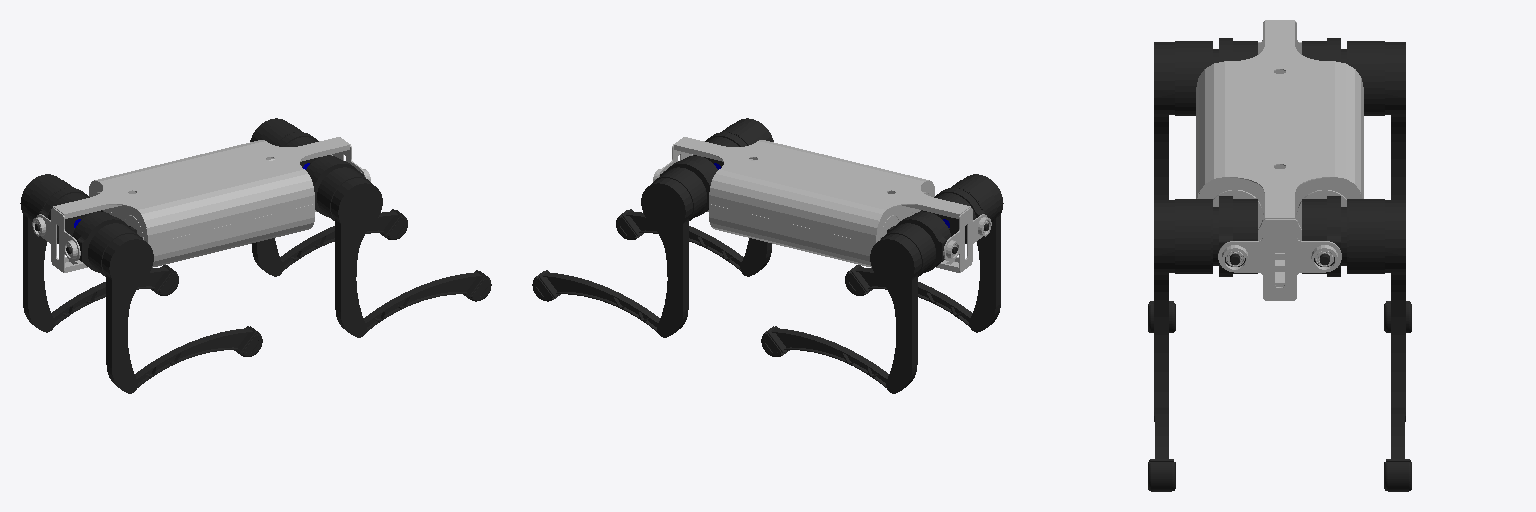
--- Facts derived from the render (not from the file) ---
Views: 3 orthographic renders of the robot side by side, from view 1: azimuth 30°, elevation 25°; view 2: azimuth 150°, elevation 25°; view 3: azimuth 270°, elevation 25°.
Model aliengo with 31 links and 30 joints (12 revolute, 18 fixed), rooted at base, posed all joints at 0 but 4 set to mid-range because 0 is outside their limits (FR_calf_joint = -1.69, FL_calf_joint = -1.69, RR_calf_joint = -1.69, RL_calf_joint = -1.69).
Visible links, largest first — view 1: body, FR_thigh, RR_thigh, RL_thigh, RR_calf, FR_calf, FL_thigh, FL_calf, RL_calf, RR_hip, RL_hip, FR_hip; view 2: body, RL_thigh, FL_thigh, RR_thigh, RL_calf, FL_calf, FR_thigh, FR_calf, RR_calf, RL_hip, RR_hip, FL_hip; view 3: body, FR_thigh, FL_thigh, RR_thigh, RL_thigh, FL_hip, FR_hip, FR_calf, FL_calf, FR_foot, FL_foot, RR_hip (+1 smaller).
Link boxes in pixels (box(x1,y1,x2,y2)): body: box(32, 137, 370, 272); FR_thigh: box(317, 167, 382, 337); RR_thigh: box(88, 223, 153, 393); RL_thigh: box(20, 174, 73, 332); RR_calf: box(126, 326, 258, 392); FR_calf: box(355, 270, 487, 335); FL_thigh: box(250, 118, 301, 276); FL_calf: box(271, 209, 403, 274); RL_calf: box(43, 265, 174, 330); RR_hip: box(66, 211, 136, 272); RL_hip: box(35, 188, 103, 243); FR_hip: box(306, 156, 363, 216); body: box(653, 137, 991, 272); RL_thigh: box(870, 223, 935, 393); FL_thigh: box(641, 167, 706, 337); RR_thigh: box(951, 174, 1003, 332); RL_calf: box(765, 326, 897, 392); FL_calf: box(536, 270, 668, 335); FR_thigh: box(722, 118, 773, 276); FR_calf: box(620, 209, 752, 275); RR_calf: box(849, 265, 981, 330); RL_hip: box(887, 211, 957, 272); RR_hip: box(920, 188, 988, 243); FL_hip: box(660, 156, 717, 216); body: box(1196, 20, 1363, 300); FR_thigh: box(1154, 199, 1218, 421); FL_thigh: box(1341, 199, 1405, 421); RR_thigh: box(1154, 41, 1218, 199); RL_thigh: box(1341, 41, 1405, 199); FL_hip: box(1302, 196, 1340, 276); FR_hip: box(1219, 196, 1257, 276); FR_calf: box(1148, 407, 1175, 463); FL_calf: box(1384, 407, 1411, 463); FR_foot: box(1148, 463, 1175, 491); FL_foot: box(1384, 463, 1411, 491); RR_hip: box(1219, 38, 1257, 61).
Size in the robot's own frame: 0.9348 by 0.3833 by 0.3574 metres.
17 mesh visuals loaded from 17 distinct referenced files (17 binary STL).

URDF robot description (aliengo):
<?xml version="1.0" ?>
<!-- =================================================================================== -->
<!-- |    This document was autogenerated by xacro from ourmeshURDF.xacro              | -->
<!-- |    EDITING THIS FILE BY HAND IS NOT RECOMMENDED                                 | -->
<!-- =================================================================================== -->
<robot name="aliengo" xmlns:xacro="http://www.ros.org/wiki/xacro">
  <!-- Define parameters -->
  <!-- bodyLength + hipdx should be equal to front to back hip distance -->
  <!-- dy +  dPodAxisToEdge + upperLegWidth should be equal to the center to toe distance along y axis-->
  <!-- by zhu -->
  <!-- by zhu -->
  <!-- by zhu -->
  <!-- by zhu -->
  <!-- by zhu -->
  <!-- by zhu -->
  <!-- by zhu -->
  <!-- by zhu -->
  <!-- by zhu -->
  <!--visual only-->
  <!--Hip joint坐标系位置 基于机身原点 -->
  <!--Hip joint坐标系位置 基于机身原点 -->
  <!-- 根关节电机坐标系位置 基于机身原点 -->
  <!-- 根关节电机坐标系位置 基于机身原点 -->
  <!--大腿电机 Y方向偏移距离 基于Hip_joint坐标系  应该为负 蓝色-->
  <!--小腿电机 Y方向偏移距离 thigh_joint坐标系 应该为负 绿色-->
  <!--肩部圆柱体Y方向偏移距离 基于Hip joint坐标系  橙色center of pod cylinder to the ab axis-->
  <!--thigh_joint大腿腿杆Y方向偏移距离 基于Hip joint坐标系  -->
  <!--calf_joint小腿腿杆偏移距离 基于thigh_joint坐标系  一般为Z方向 等于大腿腿长upperLegLength -->
  <!--  足端偏移距离 基于FL_calf_joint坐标系  一般为负 Z方向 与小腿杆等长 -->
  <!-- Define materials -->
  <material name="darkgray">
    <color rgba="0.1 0.1 0.1 1.0"/>
  </material>
  <material name="silver">
    <color rgba="0.3 0.3 0.3 1.0"/>
  </material>
  <material name="red">
    <color rgba="0.8 0.0 0.2 1.0"/>
  </material>
  <material name="blue">
    <color rgba="0.0 0.0 0.8 1.0"/>
  </material>
  <material name="green">
    <color rgba="0.0 0.8 0.0 1.0"/>
  </material>
  <material name="grey">
    <color rgba="0.2 0.2 0.2 1.0"/>
  </material>
  <material name="orange">
    <color rgba="1.0 0.4235294117647059 0.0392156862745098 1.0"/>
  </material>
  <material name="white">
    <color rgba="0.752941176470588 0.752941176470588 0.752941176470588 1"/>
  </material>
  <link name="base">
    <visual>
      <origin rpy="0 0 0" xyz="0 0 0"/>
      <geometry>
        <box size="0.001 0.001 0.001"/>
      </geometry>
    </visual>
  </link>
  <joint name="floating_base" type="fixed">
    <origin rpy="0 0 0" xyz="0 0 0"/>
    <parent link="base"/>
    <child link="body"/>
  </joint>
  <!-- Body -->
  <link name="body">
    <visual>
      <origin rpy="0 0 0" xyz="0 0 0"/>
      <geometry>
        <mesh filename="../meshes/trunk.STL"/>
      </geometry>
      <material name="white"/>
    </visual>
    <inertial>
      <mass value="7.644"/>
      <!-- Uniform box -->
      <origin rpy="0 0 0" xyz="0.0 0.0 0.0"/>
      <!--<mass value="11.644"/> -->
      <inertia ixx="0.05256248" ixy="0.0" ixz="-0.00026788" iyy="0.25653482" iyz="-0.00000258" izz="0.28262267"/>
    </inertial>
    <!-- Just copy geometry for collision -->
    <collision>
      <origin rpy="0 0 0" xyz="0 0 0"/>
      <geometry>
        <box size="0.647 0.244 0.1335"/>
      </geometry>
    </collision>
  </link>
  <joint name="imu_joint" type="fixed">
    <parent link="body"/>
    <child link="imu_link"/>
    <origin rpy="0 0 0" xyz="0 0 0"/>
  </joint>
  <link name="imu_link">
    <inertial>
      <mass value="0.001"/>
      <origin rpy="0 0 0" xyz="0 0 0"/>
      <inertia ixx="0.0001" ixy="0" ixz="0" iyy="0.000001" iyz="0" izz="0.0001"/>
    </inertial>
    <visual>
      <origin rpy="0 0 0" xyz="0 0 0"/>
      <geometry>
        <box size="0.001 0.001 0.001"/>
      </geometry>
      <material name="red"/>
    </visual>
    <collision>
      <origin rpy="0 0 0" xyz="0 0 0"/>
      <geometry>
        <box size=".001 .001 .001"/>
      </geometry>
    </collision>
  </link>
  <!-- Define our leg macro -->
  <!-- Our four legs -->
  <!-- Hip motor -->
  <link name="FR_hip">
    <visual>
      <!-- <origin rpy="${pi * hiprpyX} ${pi * hiprpyY} 0" xyz="0 0 0"/>  -->
      <origin rpy="0 0 0" xyz="0 0 0"/>
      <geometry>
        <mesh filename="../meshes/FR_hip.STL"/>
      </geometry>
      <material name="grey"/>
    </visual>
    <collision>
      <origin rpy="1.570796326795 0 0" xyz="0 -0.10665 0"/>
      <geometry>
        <cylinder length="0.03" radius="0.055"/>
      </geometry>
    </collision>
    <inertial>
      <mass value="0.33072"/>
      <origin rpy="0 0 0" xyz="-0.0 -0.10665 0"/>
      <inertia ixx="0.00027491" ixy="-0.0" ixz="0.0" iyy="0.00050021" iyz="-0.0" izz="0.00027491"/>
    </inertial>
  </link>
  <!-- Abduction joint. Joint names are: 8 9 10 11 -->
  <joint name="FR_hip_joint" type="revolute">
    <parent link="body"/>
    <child link="FR_hip"/>
    <axis xyz="1 0 0"/>
    <origin rpy="0 0 0" xyz="0.2717 -0.065 0"/>
    <limit effort="54" lower="-0.873" upper="1.047" velocity="20"/>
    <dynamics damping="0.0" friction="0.0"/>
  </joint>
  <link name="FR_hip_motor">
    <visual>
      <origin rpy="0 1.570796326795 0" xyz="0 0 0"/>
      <geometry>
        <cylinder length="0.0285" radius="0.025"/>
      </geometry>
      <material name="red"/>
    </visual>
    <collision>
      <origin rpy="0 1.570796326795 0" xyz="0 0 0"/>
      <geometry>
        <cylinder length="0.057" radius="0.05"/>
      </geometry>
    </collision>
    <inertial>
      <mass value="1"/>
      <origin rpy="0 0 0" xyz="0.0 0.0 0.0"/>
      <inertia ixx="0.00114696" ixy="0.0" ixz="0.0" iyy="0.00072987" iyz="0.0" izz="0.00072987"/>
    </inertial>
  </link>
  <joint name="FR_hip_motor_joint" type="fixed">
    <parent link="body"/>
    <child link="FR_hip_motor"/>
    <origin rpy="0 0 0" xyz="0.17524 -0.065 0"/>
  </joint>
  <!-- Upper leg -->
  <link name="FR_thigh">
    <visual>
      <!-- <origin rpy="0 ${pi/2} 0" xyz="0 0 ${upperLegLength/2*(-1)}"/> -->
      <origin rpy="0 0 0" xyz="0 0 0"/>
      <geometry>
        <mesh filename="../meshes/FR_thigh.STL"/>
      </geometry>
      <material name="grey"/>
    </visual>
    <collision>
      <origin rpy="0 0 0" xyz="0 0 -0.14"/>
      <geometry>
        <box size=" 0.063 0.03 0.28"/>
      </geometry>
    </collision>
    <inertial>
      <origin rpy="0 0 0" xyz="0.01329397 0.00102971 -0.13226127"/>
      <mass value="0.4583"/>
      <inertia ixx="  0.00896040" ixy="7.13e-06" ixz="0.00032774" iyy="0.00924735" iyz="8.695e-05" izz="0.00043370"/>
    </inertial>
  </link>
  <!-- Hip joint. (Motor to upper leg). Joint names are: 0 2 4 6 -->
  <joint name="FR_thigh_joint" type="revolute">
    <parent link="FR_hip"/>
    <child link="FR_thigh"/>
    <axis xyz="0 1 0"/>
    <origin rpy="0 0 0" xyz="0 -0.10665 0"/>
    <!--  rpy="0 -0.3 0" -->
    <limit effort="54" lower="-0.524" upper="3.927" velocity="20"/>
    <dynamics damping="0.0" friction="0.0"/>
  </joint>
  <link name="FR_thigh_motor">
    <visual>
      <origin rpy="1.570796326795  0 0" xyz="0 0 0"/>
      <geometry>
        <cylinder length="0.0275" radius="0.0275"/>
      </geometry>
      <material name="blue"/>
    </visual>
    <collision>
      <origin rpy="1.570796326795  0 0" xyz="0 0 0"/>
      <geometry>
        <cylinder length="0.055" radius="0.055"/>
      </geometry>
    </collision>
    <inertial>
      <mass value="1.53"/>
      <origin rpy="0 0 0" xyz="0.0 0.0 0.0"/>
      <inertia ixx="  0.00162624" ixy=" 0.0" ixz="  0.0" iyy=" 0.00273756" iyz=" 0.0" izz="  0.00162624"/>
    </inertial>
  </link>
  <!-- Hip joint. (Motor to upper leg). Joint names are: 0 2 4 6 -->
  <joint name="FR_thigh_motor_joint" type="fixed">
    <parent link="FR_hip"/>
    <child link="FR_thigh_motor"/>
    <origin rpy="0 0 0" xyz="0 0.00545 0"/>
    <!--  rpy="0 -0.3 0" -->
  </joint>
  <!-- Lower leg -->
  <link name="FR_calf">
    <visual>
      <!-- <origin rpy="0 ${pi/2} 0" xyz="0 0 -${lowerLegLength/2}"/>-->
      <origin rpy="0 0 0" xyz="0 0 0"/>
      <geometry>
        <mesh filename="../meshes/FR_calf.STL"/>
        <!-- <mesh filename="../meshes/calf.dae" scale="1 1 1"/>-->
      </geometry>
      <material name="grey"/>
    </visual>
    <collision>
      <origin rpy="0 0 0" xyz="0 0 -0.14"/>
      <geometry>
        <box size=" 0.039 0.02 0.28"/>
      </geometry>
    </collision>
    <inertial>
      <mass value="0.19385"/>
      <origin rpy="0 0 0" xyz="0.01008102 -0.00043559 -0.14922844"/>
      <inertia ixx="  0.00257525" ixy=" 0.00000130" ixz="  -0.00002219" iyy="  0.00259869" iyz=" 0.00001178" izz=" 0.00004838"/>
    </inertial>
  </link>
  <!-- Knee joint. Joint names are: 1 3 5 7 -->
  <joint name="FR_calf_joint" type="revolute">
    <parent link="FR_thigh"/>
    <child link="FR_calf"/>
    <origin rpy="0 0 0" xyz="0 0 -0.28"/>
    <!--rpy="0 0.5 0"-->
    <axis xyz="0 1 0"/>
    <limit effort="54" lower="-2.775" upper="-0.611" velocity="20"/>
    <dynamics damping="0.0" friction="0.0"/>
  </joint>
  <link name="FR_calf_motor">
    <visual>
      <origin rpy="1.570796326795 0 0" xyz="0 0 0"/>
      <geometry>
        <cylinder length="0.0275" radius="0.0275"/>
      </geometry>
      <material name="green"/>
    </visual>
    <collision>
      <origin rpy="1.570796326795 0 0" xyz="0 0 0"/>
      <geometry>
        <cylinder length="0.055" radius="0.055"/>
      </geometry>
    </collision>
    <inertial>
      <mass value="1.53"/>
      <origin rpy="0 0 0" xyz="0.0 0.0 0.0"/>
      <inertia ixx="  0.00162624" ixy=" 0.0" ixz="  0.0" iyy=" 0.00273756" iyz=" 0.0" izz="  0.00162624"/>
    </inertial>
  </link>
  <!-- Knee joint. Joint names are: 1 3 5 7 -->
  <joint name="FR_calf_motor_joint" type="fixed">
    <parent link="FR_thigh"/>
    <child link="FR_calf_motor"/>
    <origin rpy="0 0 0" xyz="0 0.0446 0"/>
    <!--rpy="0 0.5 0"-->
  </joint>
  <!-- Toe -->
  <link name="FR_foot">
    <contact>
      <friction_anchor/>
      <stiffness value="30000.0"/>
      <damping value="1000.0"/>
      <spinning_friction value="0.3"/>
      <lateral_friction value="3.0"/>
    </contact>
    <visual>
      <origin rpy="0 0 0" xyz="0 0 0"/>
      <geometry>
        <mesh filename="../meshes/FR_foot.STL"/>
      </geometry>
      <material name="grey"/>
    </visual>
    <collision>
      <origin rpy="0 0 0" xyz="0 0 0"/>
      <geometry>
        <sphere radius="0.03"/>
      </geometry>
    </collision>
    <inertial>
      <mass value="0.06"/>
      <origin rpy="0 0 0" xyz="0.01047879 -0 -0.00857377"/>
      <inertia ixx=" 0.00001796" ixy="0.0" ixz="-0.00000542" iyy=" 0.00001858" iyz=" 0.0" izz="0.00001577"/>
    </inertial>
  </link>
  <joint dont_collapse="true" name="FR_foot_fixed" type="fixed">
    <parent link="FR_calf"/>
    <child link="FR_foot"/>
    <origin rpy="0 0 0" xyz="0 0 -0.28"/>
  </joint>
  <!-- Hip motor -->
  <link name="FL_hip">
    <visual>
      <!-- <origin rpy="${pi * hiprpyX} ${pi * hiprpyY} 0" xyz="0 0 0"/>  -->
      <origin rpy="0 0 0" xyz="0 0 0"/>
      <geometry>
        <mesh filename="../meshes/FL_hip.STL"/>
      </geometry>
      <material name="grey"/>
    </visual>
    <collision>
      <origin rpy="1.570796326795 0 0" xyz="0 0.10665 0"/>
      <geometry>
        <cylinder length="0.03" radius="0.055"/>
      </geometry>
    </collision>
    <inertial>
      <mass value="0.33072"/>
      <origin rpy="0 0 0" xyz="-0.0 0.10665 0"/>
      <inertia ixx="0.00027491" ixy="0.0" ixz="0.0" iyy="0.00050021" iyz="0.0" izz="0.00027491"/>
    </inertial>
  </link>
  <!-- Abduction joint. Joint names are: 8 9 10 11 -->
  <joint name="FL_hip_joint" type="revolute">
    <parent link="body"/>
    <child link="FL_hip"/>
    <axis xyz="1 0 0"/>
    <origin rpy="0 0 0" xyz="0.2717 0.065 0"/>
    <limit effort="54" lower="-0.873" upper="1.047" velocity="20"/>
    <dynamics damping="0.0" friction="0.0"/>
  </joint>
  <link name="FL_hip_motor">
    <visual>
      <origin rpy="0 1.570796326795 0" xyz="0 0 0"/>
      <geometry>
        <cylinder length="0.0285" radius="0.025"/>
      </geometry>
      <material name="red"/>
    </visual>
    <collision>
      <origin rpy="0 1.570796326795 0" xyz="0 0 0"/>
      <geometry>
        <cylinder length="0.057" radius="0.05"/>
      </geometry>
    </collision>
    <inertial>
      <mass value="1"/>
      <origin rpy="0 0 0" xyz="0.0 0.0 0.0"/>
      <inertia ixx="0.00114696" ixy="0.0" ixz="0.0" iyy="0.00072987" iyz="0.0" izz="0.00072987"/>
    </inertial>
  </link>
  <joint name="FL_hip_motor_joint" type="fixed">
    <parent link="body"/>
    <child link="FL_hip_motor"/>
    <origin rpy="0 0 0" xyz="0.17524 0.065 0"/>
  </joint>
  <!-- Upper leg -->
  <link name="FL_thigh">
    <visual>
      <!-- <origin rpy="0 ${pi/2} 0" xyz="0 0 ${upperLegLength/2*(-1)}"/> -->
      <origin rpy="0 0 0" xyz="0 0 0"/>
      <geometry>
        <mesh filename="../meshes/FL_thigh.STL"/>
      </geometry>
      <material name="grey"/>
    </visual>
    <collision>
      <origin rpy="0 0 0" xyz="0 0 -0.14"/>
      <geometry>
        <box size=" 0.063 0.03 0.28"/>
      </geometry>
    </collision>
    <inertial>
      <origin rpy="0 0 0" xyz="0.01329397 -0.00102971 -0.13226127"/>
      <mass value="0.4583"/>
      <inertia ixx="  0.00896040" ixy="-7.13e-06" ixz="0.00032774" iyy="0.00924735" iyz="-8.695e-05" izz="0.00043370"/>
    </inertial>
  </link>
  <!-- Hip joint. (Motor to upper leg). Joint names are: 0 2 4 6 -->
  <joint name="FL_thigh_joint" type="revolute">
    <parent link="FL_hip"/>
    <child link="FL_thigh"/>
    <axis xyz="0 1 0"/>
    <origin rpy="0 0 0" xyz="0 0.10665 0"/>
    <!--  rpy="0 -0.3 0" -->
    <limit effort="54" lower="-0.524" upper="3.927" velocity="20"/>
    <dynamics damping="0.0" friction="0.0"/>
  </joint>
  <link name="FL_thigh_motor">
    <visual>
      <origin rpy="1.570796326795  0 0" xyz="0 0 0"/>
      <geometry>
        <cylinder length="0.0275" radius="0.0275"/>
      </geometry>
      <material name="blue"/>
    </visual>
    <collision>
      <origin rpy="1.570796326795  0 0" xyz="0 0 0"/>
      <geometry>
        <cylinder length="0.055" radius="0.055"/>
      </geometry>
    </collision>
    <inertial>
      <mass value="1.53"/>
      <origin rpy="0 0 0" xyz="0.0 0.0 0.0"/>
      <inertia ixx="  0.00162624" ixy=" 0.0" ixz="  0.0" iyy=" 0.00273756" iyz=" 0.0" izz="  0.00162624"/>
    </inertial>
  </link>
  <!-- Hip joint. (Motor to upper leg). Joint names are: 0 2 4 6 -->
  <joint name="FL_thigh_motor_joint" type="fixed">
    <parent link="FL_hip"/>
    <child link="FL_thigh_motor"/>
    <origin rpy="0 0 0" xyz="0 -0.00545 0"/>
    <!--  rpy="0 -0.3 0" -->
  </joint>
  <!-- Lower leg -->
  <link name="FL_calf">
    <visual>
      <!-- <origin rpy="0 ${pi/2} 0" xyz="0 0 -${lowerLegLength/2}"/>-->
      <origin rpy="0 0 0" xyz="0 0 0"/>
      <geometry>
        <mesh filename="../meshes/FL_calf.STL"/>
        <!-- <mesh filename="../meshes/calf.dae" scale="1 1 1"/>-->
      </geometry>
      <material name="grey"/>
    </visual>
    <collision>
      <origin rpy="0 0 0" xyz="0 0 -0.14"/>
      <geometry>
        <box size=" 0.039 0.02 0.28"/>
      </geometry>
    </collision>
    <inertial>
      <mass value="0.19385"/>
      <origin rpy="0 0 0" xyz="0.01008102 -0.00043559 -0.14922844"/>
      <inertia ixx="  0.00257525" ixy=" 0.00000130" ixz="  -0.00002219" iyy="  0.00259869" iyz=" 0.00001178" izz=" 0.00004838"/>
    </inertial>
  </link>
  <!-- Knee joint. Joint names are: 1 3 5 7 -->
  <joint name="FL_calf_joint" type="revolute">
    <parent link="FL_thigh"/>
    <child link="FL_calf"/>
    <origin rpy="0 0 0" xyz="0 0 -0.28"/>
    <!--rpy="0 0.5 0"-->
    <axis xyz="0 1 0"/>
    <limit effort="54" lower="-2.775" upper="-0.611" velocity="20"/>
    <dynamics damping="0.0" friction="0.0"/>
  </joint>
  <link name="FL_calf_motor">
    <visual>
      <origin rpy="1.570796326795 0 0" xyz="0 0 0"/>
      <geometry>
        <cylinder length="0.0275" radius="0.0275"/>
      </geometry>
      <material name="green"/>
    </visual>
    <collision>
      <origin rpy="1.570796326795 0 0" xyz="0 0 0"/>
      <geometry>
        <cylinder length="0.055" radius="0.055"/>
      </geometry>
    </collision>
    <inertial>
      <mass value="1.53"/>
      <origin rpy="0 0 0" xyz="0.0 0.0 0.0"/>
      <inertia ixx="  0.00162624" ixy=" 0.0" ixz="  0.0" iyy=" 0.00273756" iyz=" 0.0" izz="  0.00162624"/>
    </inertial>
  </link>
  <!-- Knee joint. Joint names are: 1 3 5 7 -->
  <joint name="FL_calf_motor_joint" type="fixed">
    <parent link="FL_thigh"/>
    <child link="FL_calf_motor"/>
    <origin rpy="0 0 0" xyz="0 -0.0446 0"/>
    <!--rpy="0 0.5 0"-->
  </joint>
  <!-- Toe -->
  <link name="FL_foot">
    <contact>
      <friction_anchor/>
      <stiffness value="30000.0"/>
      <damping value="1000.0"/>
      <spinning_friction value="0.3"/>
      <lateral_friction value="3.0"/>
    </contact>
    <visual>
      <origin rpy="0 0 0" xyz="0 0 0"/>
      <geometry>
        <mesh filename="../meshes/FL_foot.STL"/>
      </geometry>
      <material name="grey"/>
    </visual>
    <collision>
      <origin rpy="0 0 0" xyz="0 0 0"/>
      <geometry>
        <sphere radius="0.03"/>
      </geometry>
    </collision>
    <inertial>
      <mass value="0.06"/>
      <origin rpy="0 0 0" xyz="0.01047879 -0 -0.00857377"/>
      <inertia ixx=" 0.00001796" ixy="0.0" ixz="-0.00000542" iyy=" 0.00001858" iyz=" 0.0" izz="0.00001577"/>
    </inertial>
  </link>
  <joint dont_collapse="true" name="FL_foot_fixed" type="fixed">
    <parent link="FL_calf"/>
    <child link="FL_foot"/>
    <origin rpy="0 0 0" xyz="0 0 -0.28"/>
  </joint>
  <!-- Hip motor -->
  <link name="RR_hip">
    <visual>
      <!-- <origin rpy="${pi * hiprpyX} ${pi * hiprpyY} 0" xyz="0 0 0"/>  -->
      <origin rpy="0 0 0" xyz="0 0 0"/>
      <geometry>
        <mesh filename="../meshes/RR_hip.STL"/>
      </geometry>
      <material name="grey"/>
    </visual>
    <collision>
      <origin rpy="1.570796326795 0 0" xyz="0 -0.10665 0"/>
      <geometry>
        <cylinder length="0.03" radius="0.055"/>
      </geometry>
    </collision>
    <inertial>
      <mass value="0.33072"/>
      <origin rpy="0 0 0" xyz="0.0 -0.10665 0"/>
      <inertia ixx="0.00027491" ixy="0.0" ixz="-0.0" iyy="0.00050021" iyz="-0.0" izz="0.00027491"/>
    </inertial>
  </link>
  <!-- Abduction joint. Joint names are: 8 9 10 11 -->
  <joint name="RR_hip_joint" type="revolute">
    <parent link="body"/>
    <child link="RR_hip"/>
    <axis xyz="1 0 0"/>
    <origin rpy="0 0 0" xyz="-0.2717 -0.065 0"/>
    <limit effort="54" lower="-0.873" upper="1.047" velocity="20"/>
    <dynamics damping="0.0" friction="0.0"/>
  </joint>
  <link name="RR_hip_motor">
    <visual>
      <origin rpy="0 1.570796326795 0" xyz="0 0 0"/>
      <geometry>
        <cylinder length="0.0285" radius="0.025"/>
      </geometry>
      <material name="red"/>
    </visual>
    <collision>
      <origin rpy="0 1.570796326795 0" xyz="0 0 0"/>
      <geometry>
        <cylinder length="0.057" radius="0.05"/>
      </geometry>
    </collision>
    <inertial>
      <mass value="1"/>
      <origin rpy="0 0 0" xyz="0.0 0.0 0.0"/>
      <inertia ixx="0.00114696" ixy="0.0" ixz="0.0" iyy="0.00072987" iyz="0.0" izz="0.00072987"/>
    </inertial>
  </link>
  <joint name="RR_hip_motor_joint" type="fixed">
    <parent link="body"/>
    <child link="RR_hip_motor"/>
    <origin rpy="0 0 0" xyz="-0.17524 -0.065 0"/>
  </joint>
  <!-- Upper leg -->
  <link name="RR_thigh">
    <visual>
      <!-- <origin rpy="0 ${pi/2} 0" xyz="0 0 ${upperLegLength/2*(-1)}"/> -->
      <origin rpy="0 0 0" xyz="0 0 0"/>
      <geometry>
        <mesh filename="../meshes/RR_thigh.STL"/>
      </geometry>
      <material name="grey"/>
    </visual>
    <collision>
      <origin rpy="0 0 0" xyz="0 0 -0.14"/>
      <geometry>
        <box size=" 0.063 0.03 0.28"/>
      </geometry>
    </collision>
    <inertial>
      <origin rpy="0 0 0" xyz="0.01329397 0.00102971 -0.13226127"/>
      <mass value="0.4583"/>
      <inertia ixx="  0.00896040" ixy="7.13e-06" ixz="0.00032774" iyy="0.00924735" iyz="8.695e-05" izz="0.00043370"/>
    </inertial>
  </link>
  <!-- Hip joint. (Motor to upper leg). Joint names are: 0 2 4 6 -->
  <joint name="RR_thigh_joint" type="revolute">
    <parent link="RR_hip"/>
    <child link="RR_thigh"/>
    <axis xyz="0 1 0"/>
    <origin rpy="0 0 0" xyz="0 -0.10665 0"/>
    <!--  rpy="0 -0.3 0" -->
    <limit effort="54" lower="-0.524" upper="3.927" velocity="20"/>
    <dynamics damping="0.0" friction="0.0"/>
  </joint>
  <link name="RR_thigh_motor">
    <visual>
      <origin rpy="1.570796326795  0 0" xyz="0 0 0"/>
      <geometry>
        <cylinder length="0.0275" radius="0.0275"/>
      </geometry>
      <material name="blue"/>
    </visual>
    <collision>
      <origin rpy="1.570796326795  0 0" xyz="0 0 0"/>
      <geometry>
        <cylinder length="0.055" radius="0.055"/>
      </geometry>
    </collision>
    <inertial>
      <mass value="1.53"/>
      <origin rpy="0 0 0" xyz="0.0 0.0 0.0"/>
      <inertia ixx="  0.00162624" ixy=" 0.0" ixz="  0.0" iyy=" 0.00273756" iyz=" 0.0" izz="  0.00162624"/>
    </inertial>
  </link>
  <!-- Hip joint. (Motor to upper leg). Joint names are: 0 2 4 6 -->
  <joint name="RR_thigh_motor_joint" type="fixed">
    <parent link="RR_hip"/>
    <child link="RR_thigh_motor"/>
    <origin rpy="0 0 0" xyz="0 0.00545 0"/>
    <!--  rpy="0 -0.3 0" -->
  </joint>
  <!-- Lower leg -->
  <link name="RR_calf">
    <visual>
      <!-- <origin rpy="0 ${pi/2} 0" xyz="0 0 -${lowerLegLength/2}"/>-->
      <origin rpy="0 0 0" xyz="0 0 0"/>
      <geometry>
        <mesh filename="../meshes/RR_calf.STL"/>
        <!-- <mesh filename="../meshes/calf.dae" scale="1 1 1"/>-->
      </geometry>
      <material name="grey"/>
    </visual>
    <collision>
      <origin rpy="0 0 0" xyz="0 0 -0.14"/>
      <geometry>
        <box size=" 0.039 0.02 0.28"/>
      </geometry>
    </collision>
    <inertial>
      <mass value="0.19385"/>
      <origin rpy="0 0 0" xyz="0.01008102 -0.00043559 -0.14922844"/>
      <inertia ixx="  0.00257525" ixy=" 0.00000130" ixz="  -0.00002219" iyy="  0.00259869" iyz=" 0.00001178" izz=" 0.00004838"/>
    </inertial>
  </link>
  <!-- Knee joint. Joint names are: 1 3 5 7 -->
  <joint name="RR_calf_joint" type="revolute">
    <parent link="RR_thigh"/>
    <child link="RR_calf"/>
    <origin rpy="0 0 0" xyz="0 0 -0.28"/>
    <!--rpy="0 0.5 0"-->
    <axis xyz="0 1 0"/>
    <limit effort="54" lower="-2.775" upper="-0.611" velocity="20"/>
    <dynamics damping="0.0" friction="0.0"/>
  </joint>
  <link name="RR_calf_motor">
    <visual>
      <origin rpy="1.570796326795 0 0" xyz="0 0 0"/>
      <geometry>
        <cylinder length="0.0275" radius="0.0275"/>
      </geometry>
      <material name="green"/>
    </visual>
    <collision>
      <origin rpy="1.570796326795 0 0" xyz="0 0 0"/>
      <geometry>
        <cylinder length="0.055" radius="0.055"/>
      </geometry>
    </collision>
    <inertial>
      <mass value="1.53"/>
      <origin rpy="0 0 0" xyz="0.0 0.0 0.0"/>
      <inertia ixx="  0.00162624" ixy=" 0.0" ixz="  0.0" iyy=" 0.00273756" iyz=" 0.0" izz="  0.00162624"/>
    </inertial>
  </link>
  <!-- Knee joint. Joint names are: 1 3 5 7 -->
  <joint name="RR_calf_motor_joint" type="fixed">
    <parent link="RR_thigh"/>
    <child link="RR_calf_motor"/>
    <origin rpy="0 0 0" xyz="0 0.0446 0"/>
    <!--rpy="0 0.5 0"-->
  </joint>
  <!-- Toe -->
  <link name="RR_foot">
    <contact>
      <friction_anchor/>
      <stiffness value="30000.0"/>
      <damping value="1000.0"/>
      <spinning_friction value="0.3"/>
      <lateral_friction value="3.0"/>
    </contact>
    <visual>
      <origin rpy="0 0 0" xyz="0 0 0"/>
      <geometry>
        <mesh filename="../meshes/RR_foot.STL"/>
      </geometry>
      <material name="grey"/>
    </visual>
    <collision>
      <origin rpy="0 0 0" xyz="0 0 0"/>
      <geometry>
        <sphere radius="0.03"/>
      </geometry>
    </collision>
    <inertial>
      <mass value="0.06"/>
      <origin rpy="0 0 0" xyz="0.01047879 -0 -0.00857377"/>
      <inertia ixx=" 0.00001796" ixy="0.0" ixz="-0.00000542" iyy=" 0.00001858" iyz=" 0.0" izz="0.00001577"/>
    </inertial>
  </link>
  <joint dont_collapse="true" name="RR_foot_fixed" type="fixed">
    <parent link="RR_calf"/>
    <child link="RR_foot"/>
    <origin rpy="0 0 0" xyz="0 0 -0.28"/>
  </joint>
  <!-- Hip motor -->
  <link name="RL_hip">
    <visual>
      <!-- <origin rpy="${pi * hiprpyX} ${pi * hiprpyY} 0" xyz="0 0 0"/>  -->
      <origin rpy="0 0 0" xyz="0 0 0"/>
      <geometry>
        <mesh filename="../meshes/RL_hip.STL"/>
      </geometry>
      <material name="grey"/>
    </visual>
    <collision>
      <origin rpy="1.570796326795 0 0" xyz="0 0.10665 0"/>
      <geometry>
        <cylinder length="0.03" radius="0.055"/>
      </geometry>
    </collision>
    <inertial>
      <mass value="0.33072"/>
      <origin rpy="0 0 0" xyz="0.0 0.10665 0"/>
      <inertia ixx="0.00027491" ixy="-0.0" ixz="-0.0" iyy="0.00050021" iyz="0.0" izz="0.00027491"/>
    </inertial>
  </link>
  <!-- Abduction joint. Joint names are: 8 9 10 11 -->
  <joint name="RL_hip_joint" type="revolute">
    <parent link="body"/>
    <child link="RL_hip"/>
    <axis xyz="1 0 0"/>
    <origin rpy="0 0 0" xyz="-0.2717 0.065 0"/>
    <limit effort="54" lower="-0.873" upper="1.047" velocity="20"/>
    <dynamics damping="0.0" friction="0.0"/>
  </joint>
  <link name="RL_hip_motor">
    <visual>
      <origin rpy="0 1.570796326795 0" xyz="0 0 0"/>
      <geometry>
        <cylinder length="0.0285" radius="0.025"/>
      </geometry>
      <material name="red"/>
    </visual>
    <collision>
      <origin rpy="0 1.570796326795 0" xyz="0 0 0"/>
      <geometry>
        <cylinder length="0.057" radius="0.05"/>
      </geometry>
    </collision>
    <inertial>
      <mass value="1"/>
      <origin rpy="0 0 0" xyz="0.0 0.0 0.0"/>
      <inertia ixx="0.00114696" ixy="0.0" ixz="0.0" iyy="0.00072987" iyz="0.0" izz="0.00072987"/>
    </inertial>
  </link>
  <joint name="RL_hip_motor_joint" type="fixed">
    <parent link="body"/>
    <child link="RL_hip_motor"/>
    <origin rpy="0 0 0" xyz="-0.17524 0.065 0"/>
  </joint>
  <!-- Upper leg -->
  <link name="RL_thigh">
    <visual>
      <!-- <origin rpy="0 ${pi/2} 0" xyz="0 0 ${upperLegLength/2*(-1)}"/> -->
      <origin rpy="0 0 0" xyz="0 0 0"/>
      <geometry>
        <mesh filename="../meshes/RL_thigh.STL"/>
      </geometry>
      <material name="grey"/>
    </visual>
    <collision>
      <origin rpy="0 0 0" xyz="0 0 -0.14"/>
      <geometry>
        <box size=" 0.063 0.03 0.28"/>
      </geometry>
    </collision>
    <inertial>
      <origin rpy="0 0 0" xyz="0.01329397 -0.00102971 -0.13226127"/>
      <mass value="0.4583"/>
      <inertia ixx="  0.00896040" ixy="-7.13e-06" ixz="0.00032774" iyy="0.00924735" iyz="-8.695e-05" izz="0.00043370"/>
    </inertial>
  </link>
  <!-- Hip joint. (Motor to upper leg). Joint names are: 0 2 4 6 -->
  <joint name="RL_thigh_joint" type="revolute">
    <parent link="RL_hip"/>
    <child link="RL_thigh"/>
    <axis xyz="0 1 0"/>
    <origin rpy="0 0 0" xyz="0 0.10665 0"/>
    <!--  rpy="0 -0.3 0" -->
    <limit effort="54" lower="-0.524" upper="3.927" velocity="20"/>
    <dynamics damping="0.0" friction="0.0"/>
  </joint>
  <link name="RL_thigh_motor">
    <visual>
      <origin rpy="1.570796326795  0 0" xyz="0 0 0"/>
      <geometry>
        <cylinder length="0.0275" radius="0.0275"/>
      </geometry>
      <material name="blue"/>
    </visual>
    <collision>
      <origin rpy="1.570796326795  0 0" xyz="0 0 0"/>
      <geometry>
        <cylinder length="0.055" radius="0.055"/>
      </geometry>
    </collision>
    <inertial>
      <mass value="1.53"/>
      <origin rpy="0 0 0" xyz="0.0 0.0 0.0"/>
      <inertia ixx="  0.00162624" ixy=" 0.0" ixz="  0.0" iyy=" 0.00273756" iyz=" 0.0" izz="  0.00162624"/>
    </inertial>
  </link>
  <!-- Hip joint. (Motor to upper leg). Joint names are: 0 2 4 6 -->
  <joint name="RL_thigh_motor_joint" type="fixed">
    <parent link="RL_hip"/>
    <child link="RL_thigh_motor"/>
    <origin rpy="0 0 0" xyz="0 -0.00545 0"/>
    <!--  rpy="0 -0.3 0" -->
  </joint>
  <!-- Lower leg -->
  <link name="RL_calf">
    <visual>
      <!-- <origin rpy="0 ${pi/2} 0" xyz="0 0 -${lowerLegLength/2}"/>-->
      <origin rpy="0 0 0" xyz="0 0 0"/>
      <geometry>
        <mesh filename="../meshes/RL_calf.STL"/>
        <!-- <mesh filename="../meshes/calf.dae" scale="1 1 1"/>-->
      </geometry>
      <material name="grey"/>
    </visual>
    <collision>
      <origin rpy="0 0 0" xyz="0 0 -0.14"/>
      <geometry>
        <box size=" 0.039 0.02 0.28"/>
      </geometry>
    </collision>
    <inertial>
      <mass value="0.19385"/>
      <origin rpy="0 0 0" xyz="0.01008102 -0.00043559 -0.14922844"/>
      <inertia ixx="  0.00257525" ixy=" 0.00000130" ixz="  -0.00002219" iyy="  0.00259869" iyz=" 0.00001178" izz=" 0.00004838"/>
    </inertial>
  </link>
  <!-- Knee joint. Joint names are: 1 3 5 7 -->
  <joint name="RL_calf_joint" type="revolute">
    <parent link="RL_thigh"/>
    <child link="RL_calf"/>
    <origin rpy="0 0 0" xyz="0 0 -0.28"/>
    <!--rpy="0 0.5 0"-->
    <axis xyz="0 1 0"/>
    <limit effort="54" lower="-2.775" upper="-0.611" velocity="20"/>
    <dynamics damping="0.0" friction="0.0"/>
  </joint>
  <link name="RL_calf_motor">
    <visual>
      <origin rpy="1.570796326795 0 0" xyz="0 0 0"/>
      <geometry>
        <cylinder length="0.0275" radius="0.0275"/>
      </geometry>
      <material name="green"/>
    </visual>
    <collision>
      <origin rpy="1.570796326795 0 0" xyz="0 0 0"/>
      <geometry>
        <cylinder length="0.055" radius="0.055"/>
      </geometry>
    </collision>
    <inertial>
      <mass value="1.53"/>
      <origin rpy="0 0 0" xyz="0.0 0.0 0.0"/>
      <inertia ixx="  0.00162624" ixy=" 0.0" ixz="  0.0" iyy=" 0.00273756" iyz=" 0.0" izz="  0.00162624"/>
    </inertial>
  </link>
  <!-- Knee joint. Joint names are: 1 3 5 7 -->
  <joint name="RL_calf_motor_joint" type="fixed">
    <parent link="RL_thigh"/>
    <child link="RL_calf_motor"/>
    <origin rpy="0 0 0" xyz="0 -0.0446 0"/>
    <!--rpy="0 0.5 0"-->
  </joint>
  <!-- Toe -->
  <link name="RL_foot">
    <contact>
      <friction_anchor/>
      <stiffness value="30000.0"/>
      <damping value="1000.0"/>
      <spinning_friction value="0.3"/>
      <lateral_friction value="3.0"/>
    </contact>
    <visual>
      <origin rpy="0 0 0" xyz="0 0 0"/>
      <geometry>
        <mesh filename="../meshes/RL_foot.STL"/>
      </geometry>
      <material name="grey"/>
    </visual>
    <collision>
      <origin rpy="0 0 0" xyz="0 0 0"/>
      <geometry>
        <sphere radius="0.03"/>
      </geometry>
    </collision>
    <inertial>
      <mass value="0.06"/>
      <origin rpy="0 0 0" xyz="0.01047879 -0 -0.00857377"/>
      <inertia ixx=" 0.00001796" ixy="0.0" ixz="-0.00000542" iyy=" 0.00001858" iyz=" 0.0" izz="0.00001577"/>
    </inertial>
  </link>
  <joint dont_collapse="true" name="RL_foot_fixed" type="fixed">
    <parent link="RL_calf"/>
    <child link="RL_foot"/>
    <origin rpy="0 0 0" xyz="0 0 -0.28"/>
  </joint>
</robot>
